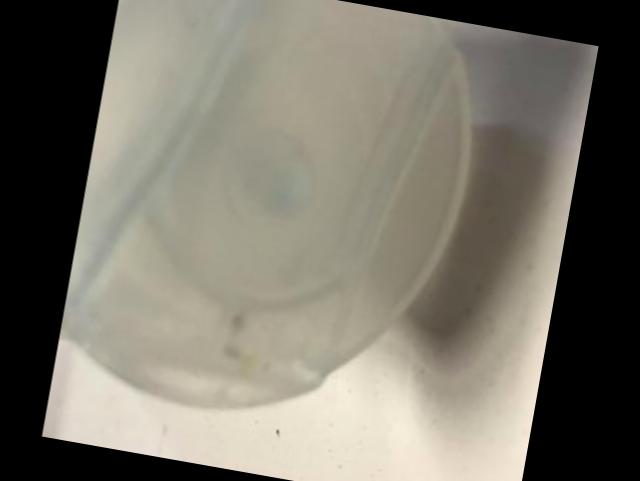plastic: (61, 0, 469, 404)
